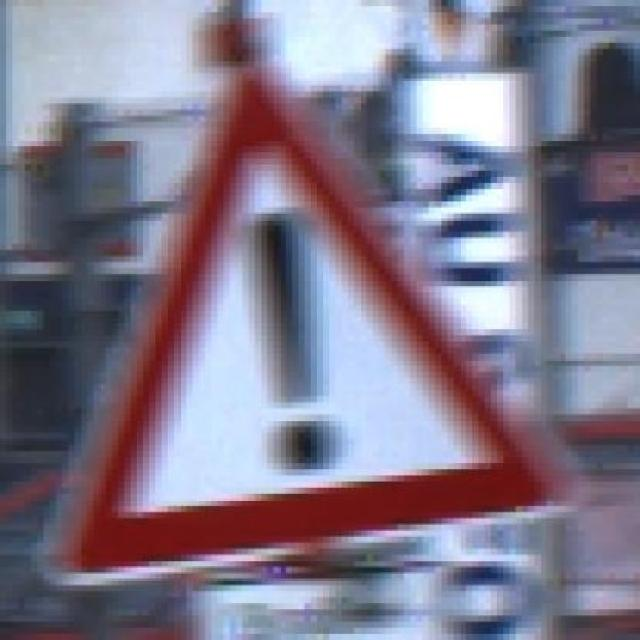Attention Please-: (40, 60, 582, 572)
